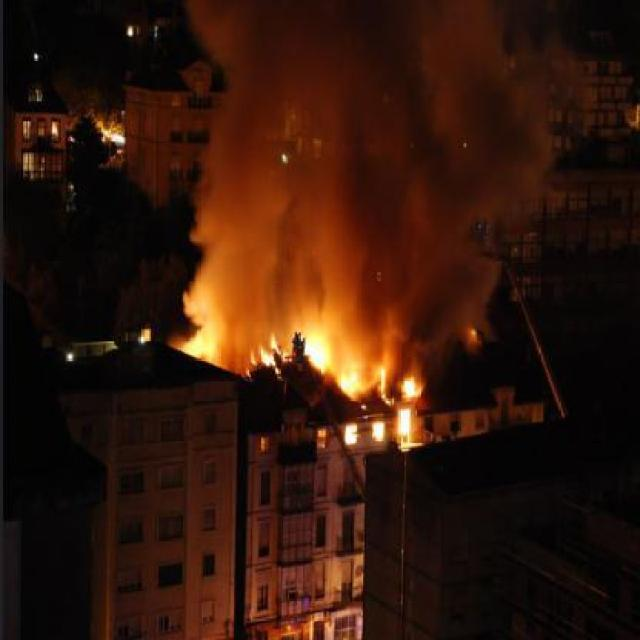Fire: (294, 326, 338, 372), (339, 366, 362, 399), (394, 406, 414, 439), (402, 371, 426, 398), (257, 346, 279, 371), (378, 368, 390, 404), (369, 420, 386, 440), (344, 424, 361, 444), (268, 328, 277, 358)
